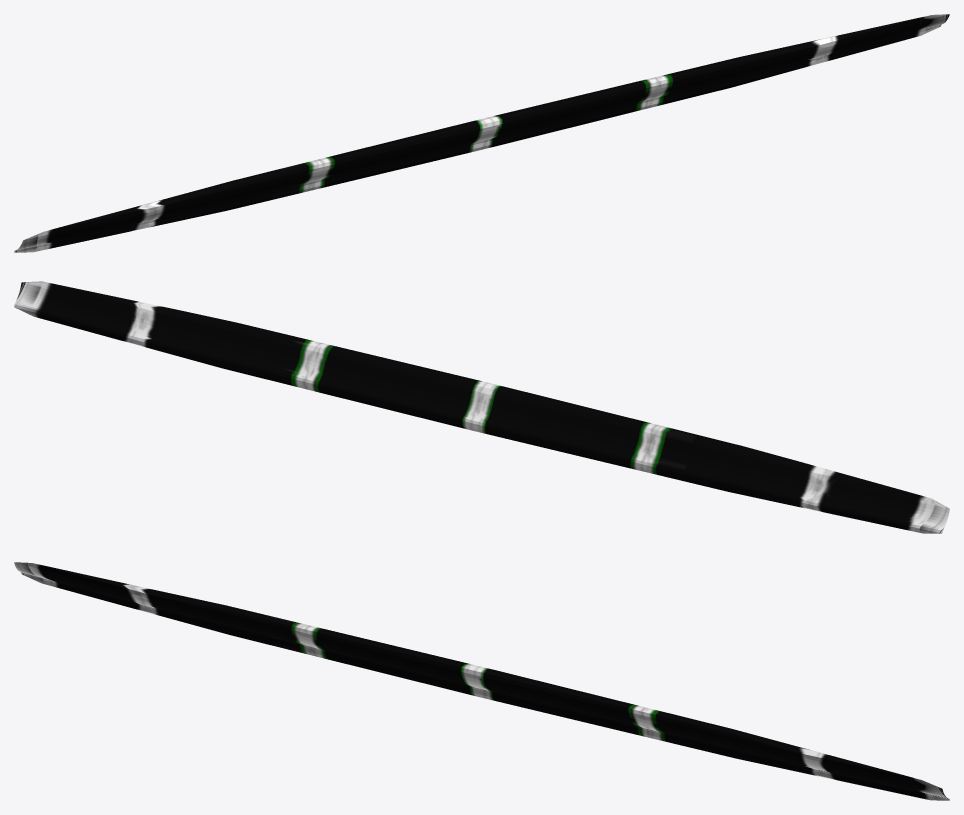
The model's file is floor_w_boards.fbx.
3 renders of one model, top to bottom at view 1: azimuth 30°, elevation 25°; view 2: azimuth 150°, elevation 25°; view 3: azimuth 330°, elevation 25°, orthographic.
Parts seen in each view (by area): view 1: Cube; view 2: Cube; view 3: Cube.
Part boxes in pixels (x1,y1,x2,y2): Cube: (14,14,949,252); Cube: (14,281,949,533); Cube: (14,562,949,800).
Bounding box in the file's own units: 5505 × 218 × 188.
1 material, 1 textured.
